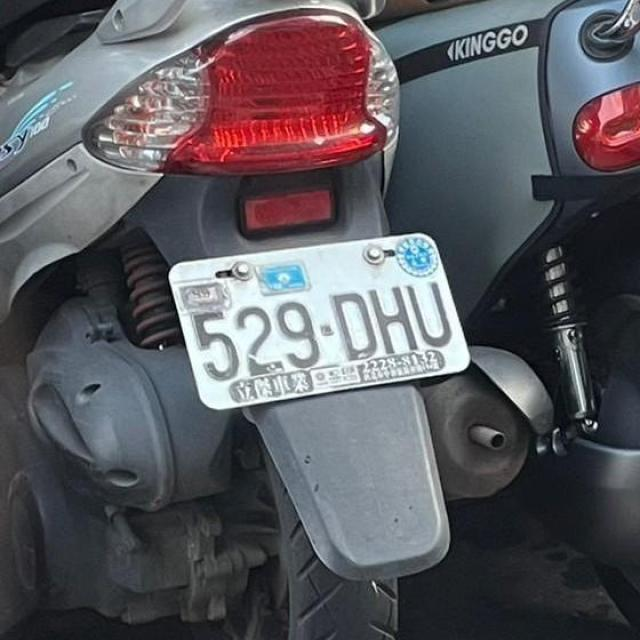W: (161, 220, 473, 415)
